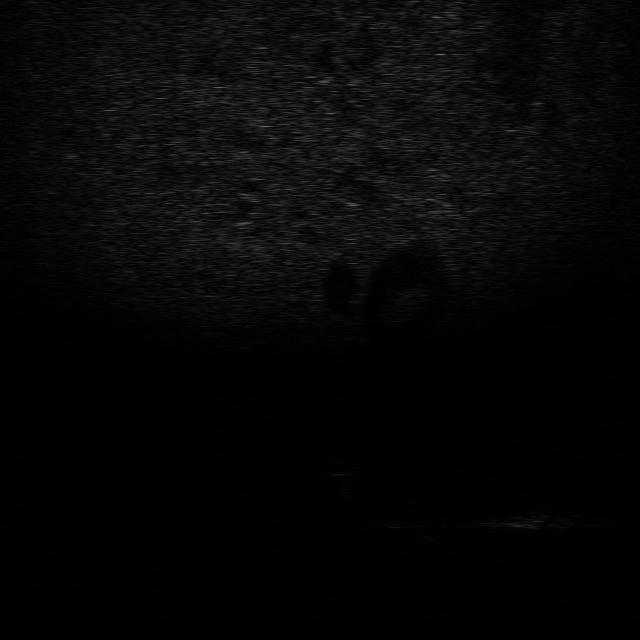ball: (322, 453, 363, 479)
metal bucket: (469, 502, 575, 532)
tyre: (377, 498, 438, 534)
